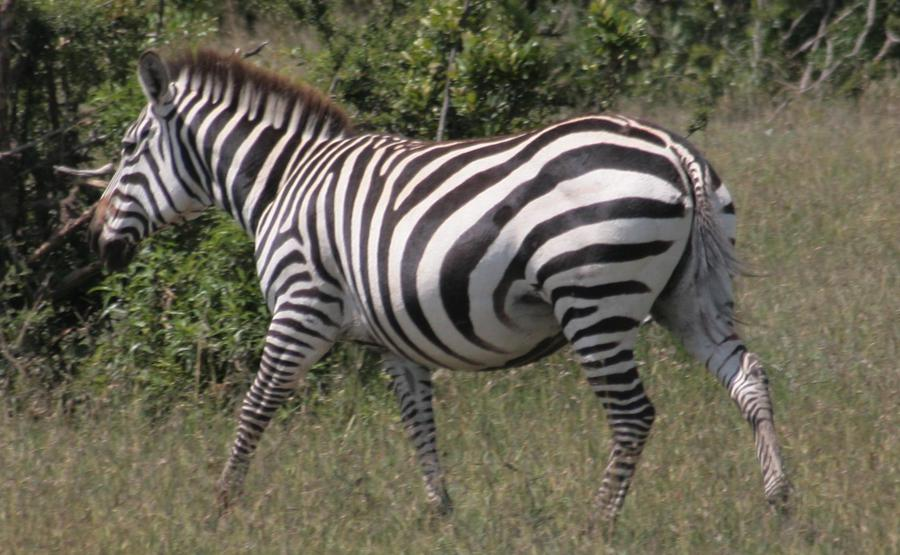zebra_plains: (215, 96, 683, 368)
